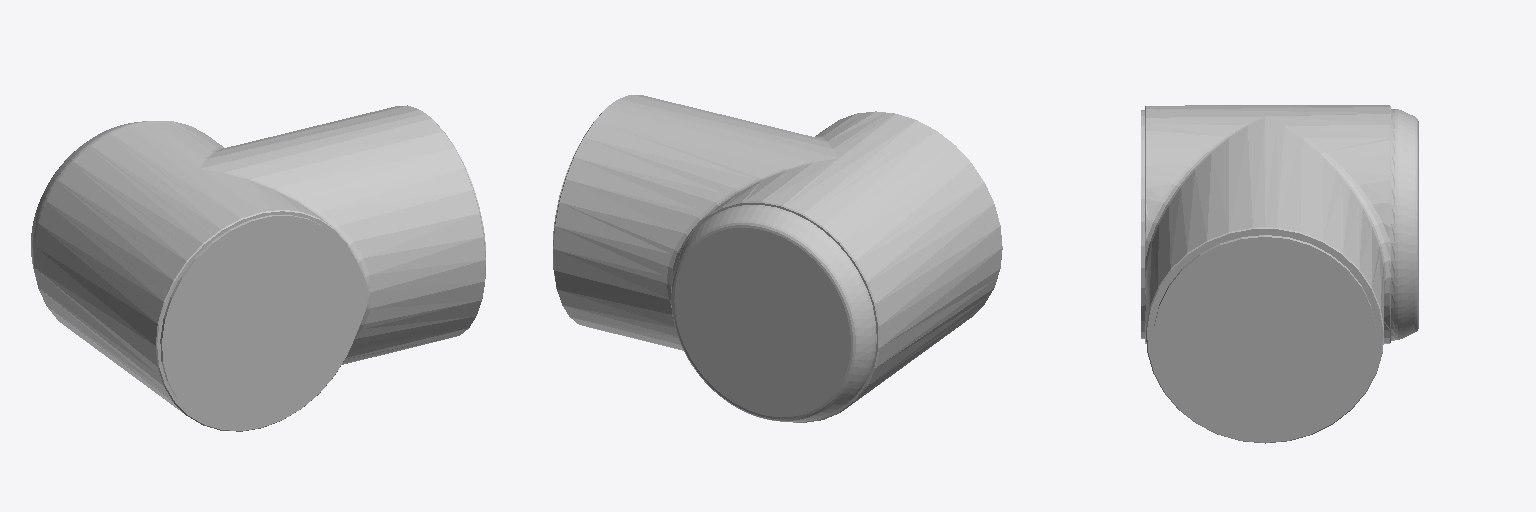
The model's file is wrist_flex_link.obj.
3 views of the same model, side by side, from view 1: azimuth 30°, elevation 25°; view 2: azimuth 150°, elevation 25°; view 3: azimuth 270°, elevation 25° (orthographic).
Parts seen in each view (by area): view 1: wrist_flex_link; view 2: wrist_flex_link; view 3: wrist_flex_link.
Boxes of the visible parts, x1,y1,x2,y2 form: wrist_flex_link: [31, 105, 485, 431]; wrist_flex_link: [553, 95, 1002, 422]; wrist_flex_link: [1141, 105, 1418, 443].
Size of the model in its own units: 0.1685 by 0.104 by 0.121.